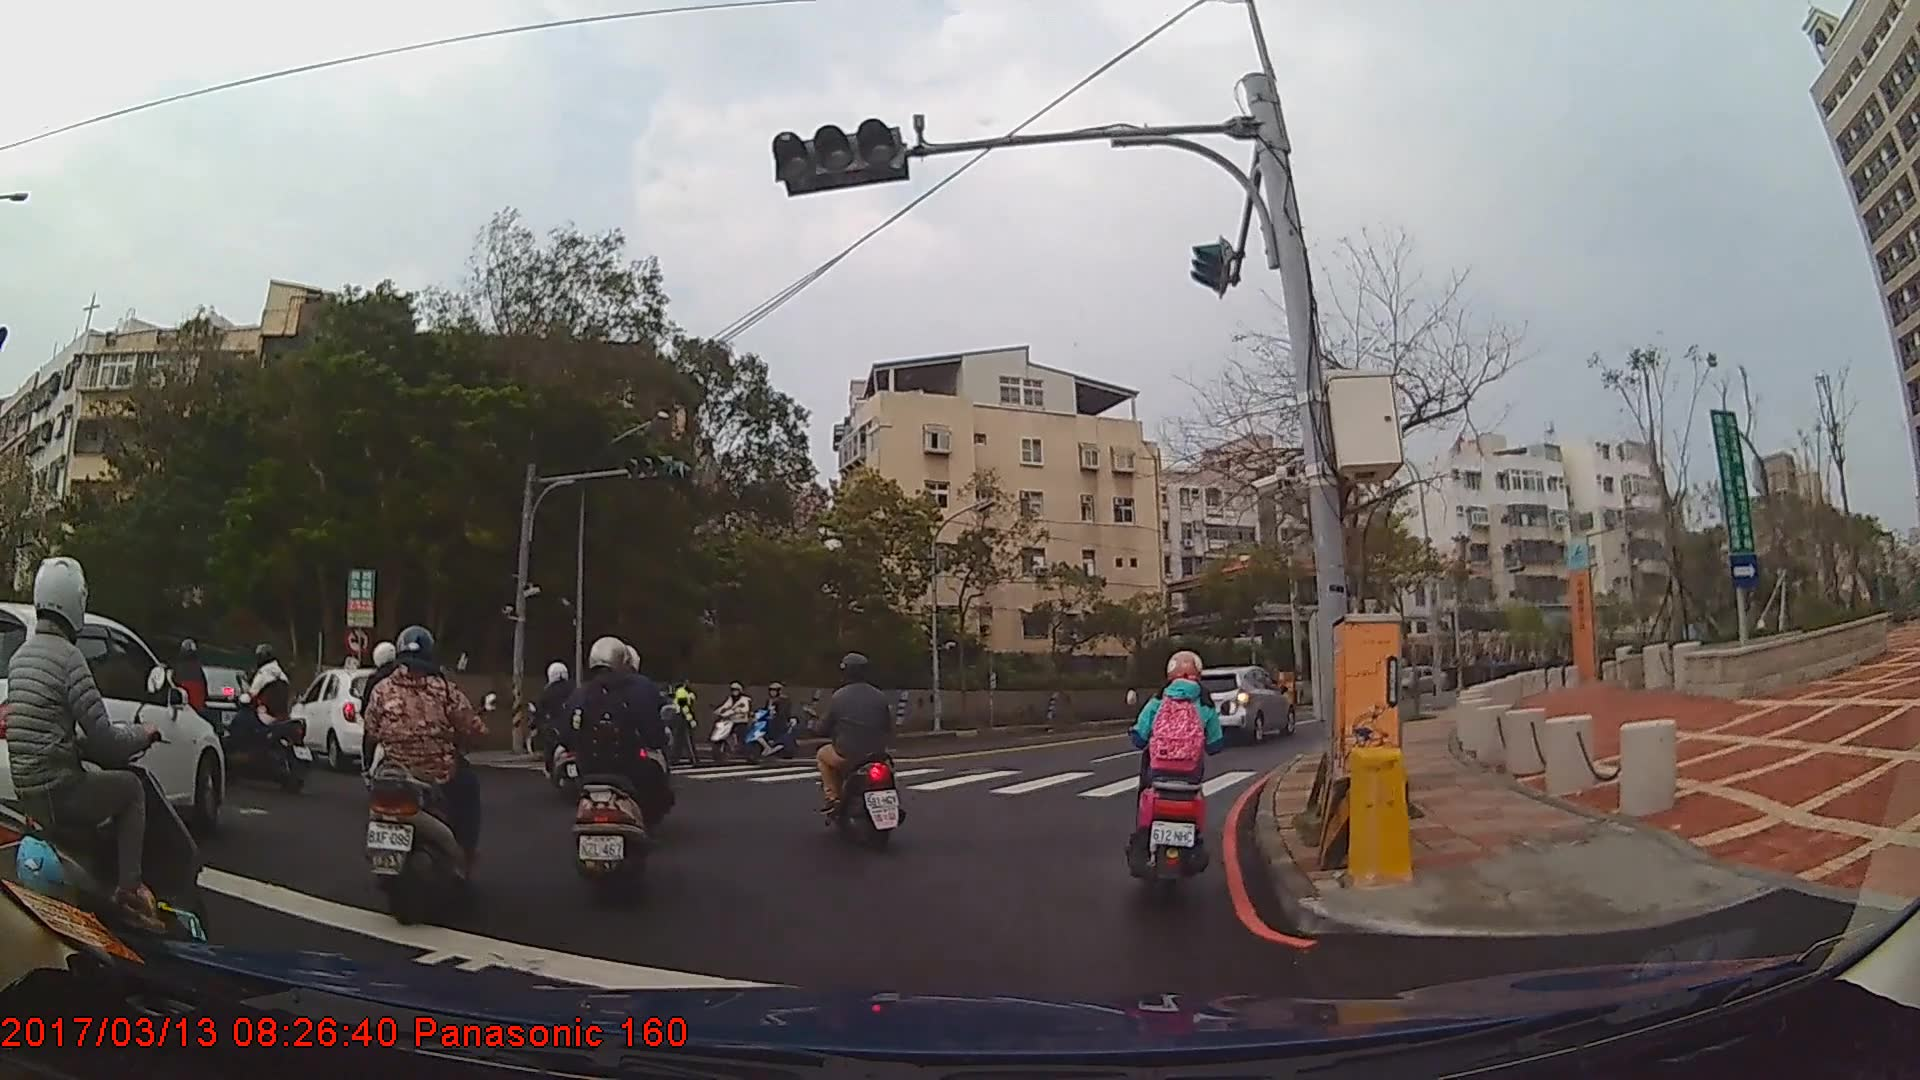pedestrian: (662, 670, 707, 771)
rider: (1, 554, 217, 1003), (360, 626, 487, 922), (557, 634, 672, 901), (1132, 650, 1231, 899), (810, 649, 904, 851), (595, 646, 675, 836), (520, 660, 601, 802), (230, 639, 299, 789), (152, 636, 215, 773), (748, 682, 803, 761), (713, 680, 759, 761)
vehicle: (0, 600, 223, 841), (286, 666, 416, 766), (1174, 663, 1296, 743), (1380, 663, 1450, 700)
